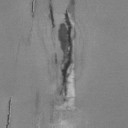slag inclusion: (55, 0, 78, 102), (48, 0, 57, 30), (5, 96, 12, 128), (30, 0, 35, 18)
